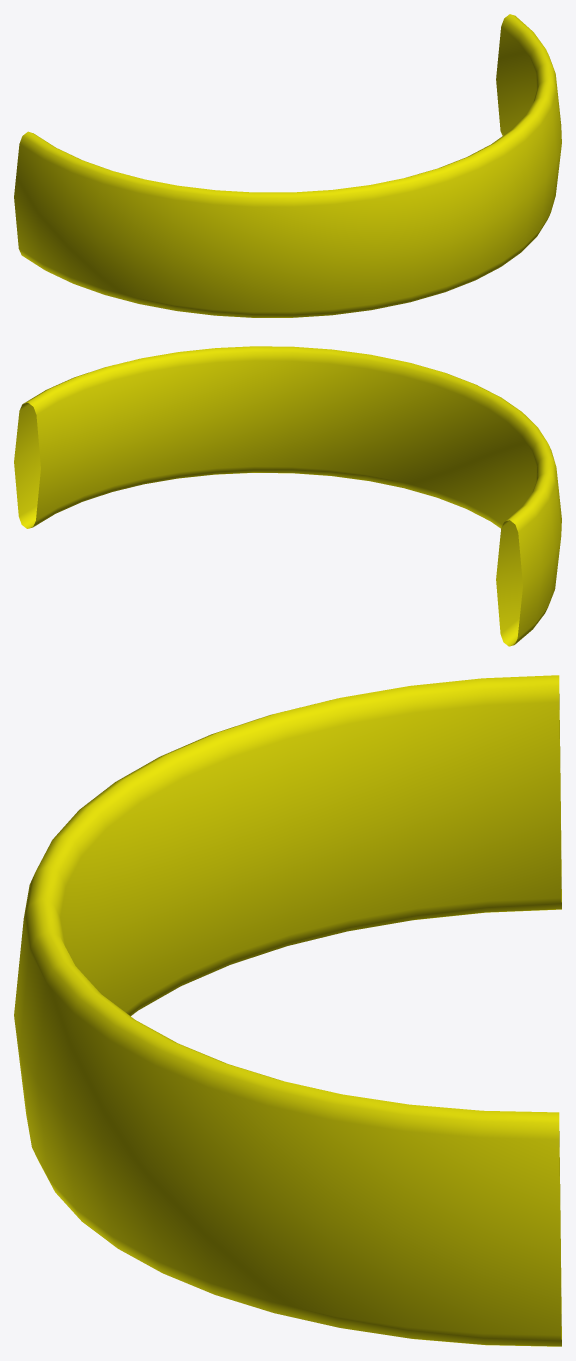
The model's file is Ring_4Bottom.fbx.
The picture shows the model from 3 angles, top to bottom: view 1: azimuth 30°, elevation 25°; view 2: azimuth 150°, elevation 25°; view 3: azimuth 270°, elevation 25°; orthographic projection. The views are drawn at different scales.
Visible parts, largest first — view 1: RingTop; view 2: RingTop; view 3: RingTop.
Boxes of the visible parts, x1=… form: RingTop: x1=14, y1=14, x2=561, y2=317; RingTop: x1=14, y1=346, x2=561, y2=646; RingTop: x1=14, y1=675, x2=561, y2=1346.
Bounding box in the file's own units: 4.1 × 0.9919 × 2.06.
